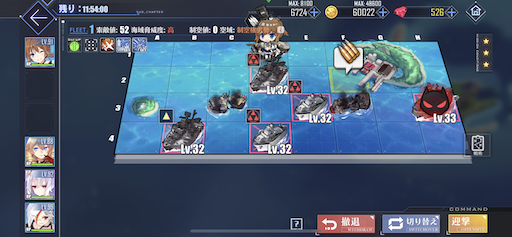lv1: (158, 110, 203, 155)
lv3: (289, 79, 335, 127), (246, 48, 291, 95), (414, 80, 460, 124), (248, 107, 292, 150)
